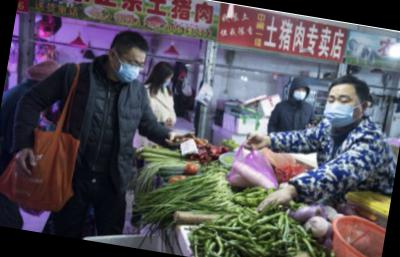mask_weared_incorrect: (163, 74, 173, 89)
with_mask: (321, 88, 364, 130), (114, 53, 147, 85), (292, 85, 308, 101)
